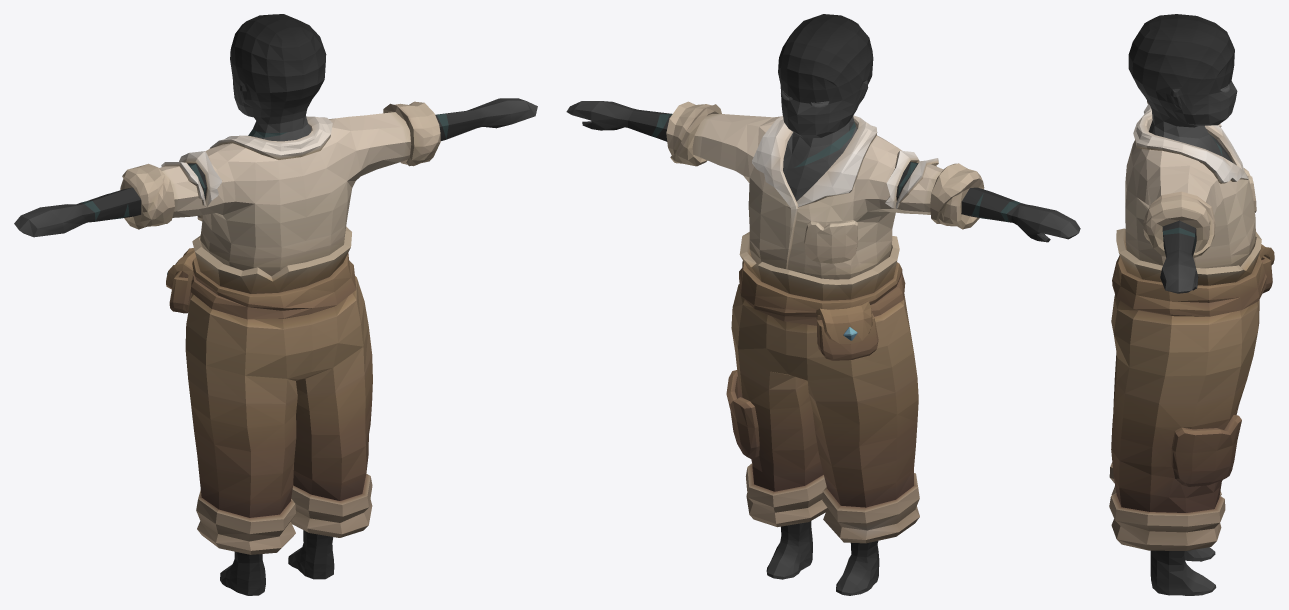
File: CharSkyNPC_Body_AP32CargoBroken.glb
The picture shows the model from 3 angles, left to right: view 1: azimuth 30°, elevation 25°; view 2: azimuth 150°, elevation 25°; view 3: azimuth 270°, elevation 25°; orthographic projection.
Visible parts, largest first — view 1: CharSkyNPC_Body_AP32CargoBroken; view 2: CharSkyNPC_Body_AP32CargoBroken; view 3: CharSkyNPC_Body_AP32CargoBroken.
Part boxes in pixels (box(x1,y1,x2,y2)): CharSkyNPC_Body_AP32CargoBroken: box(14, 14, 537, 595); CharSkyNPC_Body_AP32CargoBroken: box(566, 14, 1080, 595); CharSkyNPC_Body_AP32CargoBroken: box(1109, 14, 1274, 595).
Size of the model in its own units: 14.46 by 14.94 by 4.05.
1 material, 1 textured.
